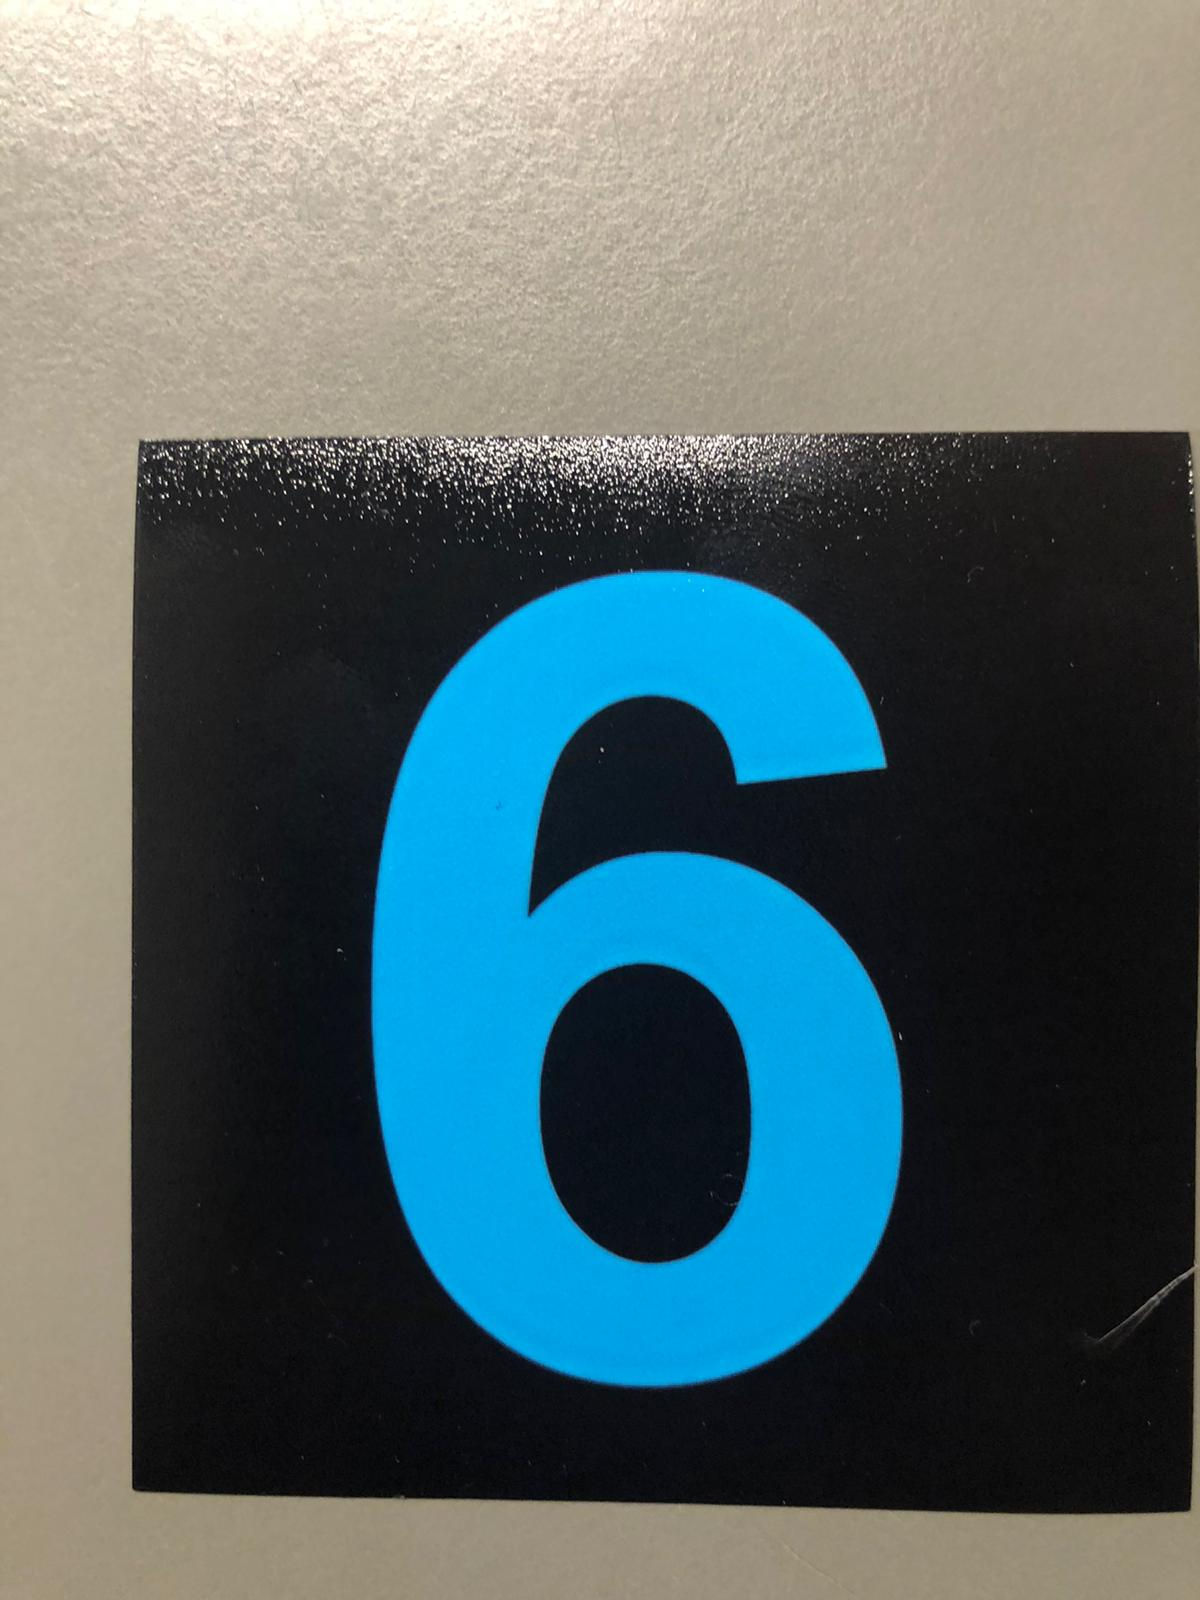Number 6: (183, 505, 1083, 1456)
